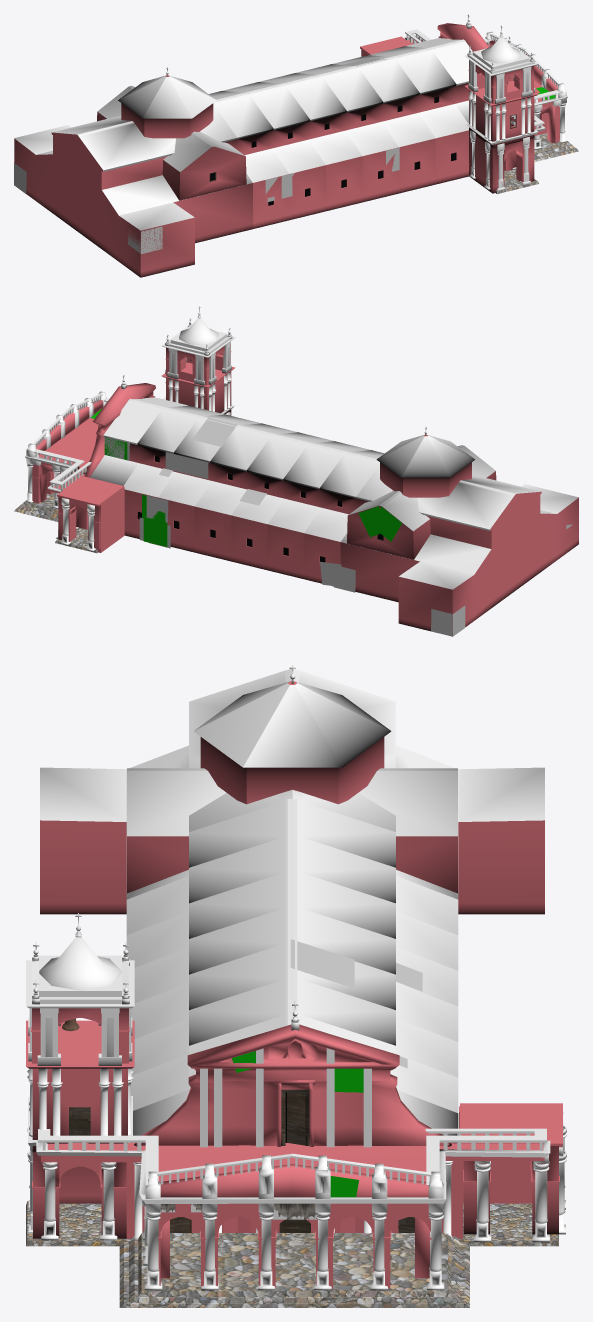
File: TesteIgreja.fbx
3 renders of one model, top to bottom at view 1: azimuth 30°, elevation 25°; view 2: azimuth 150°, elevation 25°; view 3: azimuth 270°, elevation 25°, orthographic. The views are drawn at different scales.
Visible parts, largest first — view 1: Main.002, Main, SalaLateral, Domo, Cube.003, Main.003, Cube.001, ParedeSino.001, Cube.007, Cube.014, ArcosFrontais.005, Cone (+12 smaller); view 2: Main.002, Main, Domo, SalaLateral, Main.003, Cube.014, ChaoVaranda, Cube.003, Cube.004, Cube.013, ParedeSino.001, Cube.007 (+18 smaller); view 3: Main.002, Main, Chao.001, Cube.014, Domo, SalaLateral, ChaoVaranda, Cube.003, PilastrasFrente, ArcosFrontais, Chao, Main.003 (+23 smaller).
Part boxes in pixels (left/top/right/bottom): Main.002: left=209, top=46, right=468, bottom=228; Main: left=14, top=105, right=252, bottom=277; SalaLateral: left=97, top=86, right=246, bottom=200; Domo: left=118, top=75, right=216, bottom=138; Cube.003: left=465, top=80, right=538, bottom=147; Main.003: left=405, top=38, right=472, bottom=122; Cube.001: left=469, top=130, right=504, bottom=193; ParedeSino.001: left=468, top=60, right=534, bottom=103; Cube.007: left=464, top=43, right=538, bottom=75; Cube.014: left=437, top=23, right=510, bottom=120; ArcosFrontais.005: left=504, top=121, right=534, bottom=182; Cone: left=481, top=37, right=520, bottom=63; Main.002: left=124, top=405, right=384, bottom=586; Main: left=340, top=464, right=578, bottom=636; Domo: left=376, top=434, right=475, bottom=497; SalaLateral: left=347, top=445, right=496, bottom=559; Main.003: left=90, top=397, right=188, bottom=485; Cube.014: left=83, top=383, right=155, bottom=477; ChaoVaranda: left=38, top=418, right=97, bottom=492; Cube.003: left=161, top=362, right=235, bottom=414; Cube.004: left=96, top=487, right=124, bottom=552; Cube.013: left=57, top=476, right=124, bottom=506; ParedeSino.001: left=165, top=344, right=231, bottom=385; Cube.007: left=161, top=325, right=235, bottom=357; Main.002: left=126, top=799, right=458, bottom=1112; Main: left=40, top=669, right=544, bottom=914; Chao.001: left=119, top=1233, right=469, bottom=1307; Cube.014: left=130, top=1024, right=455, bottom=1146; Domo: left=193, top=681, right=391, bottom=804; SalaLateral: left=127, top=768, right=457, bottom=893; ChaoVaranda: left=41, top=1143, right=544, bottom=1181; Cube.003: left=26, top=1020, right=134, bottom=1151; PilastrasFrente: left=144, top=1210, right=444, bottom=1290; ArcosFrontais: left=157, top=1203, right=431, bottom=1288; Chao: left=26, top=1201, right=558, bottom=1246; Main.003: left=133, top=1012, right=458, bottom=1143.
Size of the model in its own units: 5735 by 1870 by 2934.
